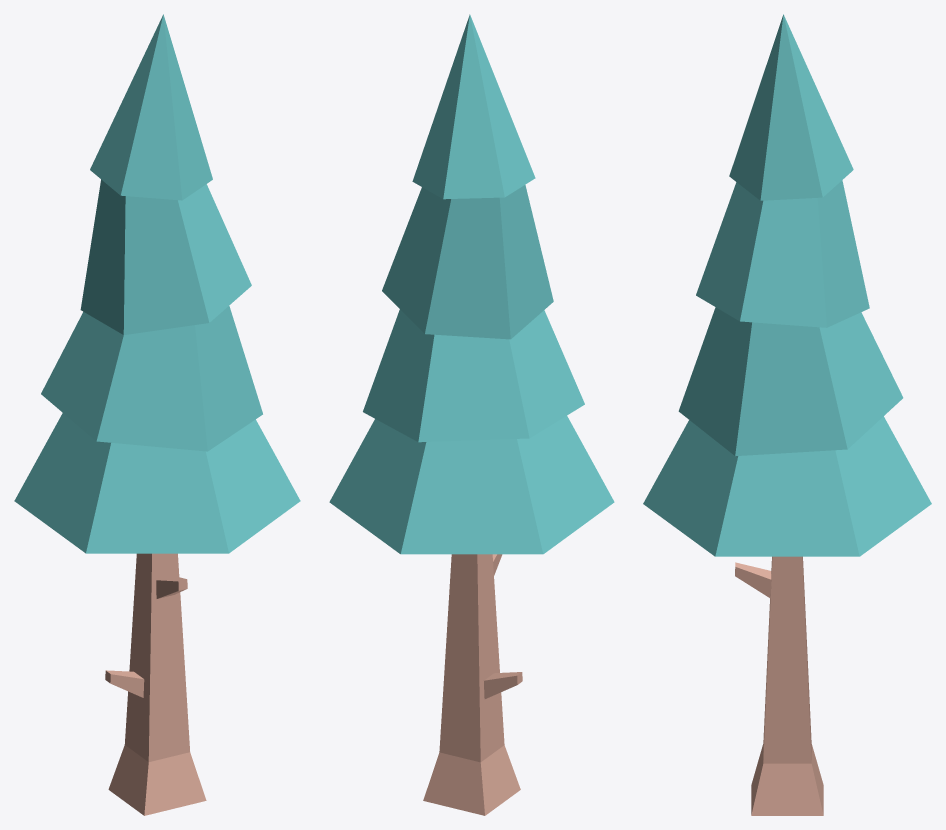
File: tree_pineTallC_detailed.gltf
3 renders of one model, left to right at view 1: azimuth 30°, elevation 25°; view 2: azimuth 150°, elevation 25°; view 3: azimuth 270°, elevation 25°, orthographic.
Visible parts, largest first — view 1: tree_pineTallC_detailed; view 2: tree_pineTallC_detailed; view 3: tree_pineTallC_detailed.
Part boxes in pixels (x1,y1,x2,y2): tree_pineTallC_detailed: (14,14,300,815); tree_pineTallC_detailed: (329,14,614,815); tree_pineTallC_detailed: (643,14,931,815).
Size of the model in its own units: 0.4804 by 1.67 by 0.5547.
